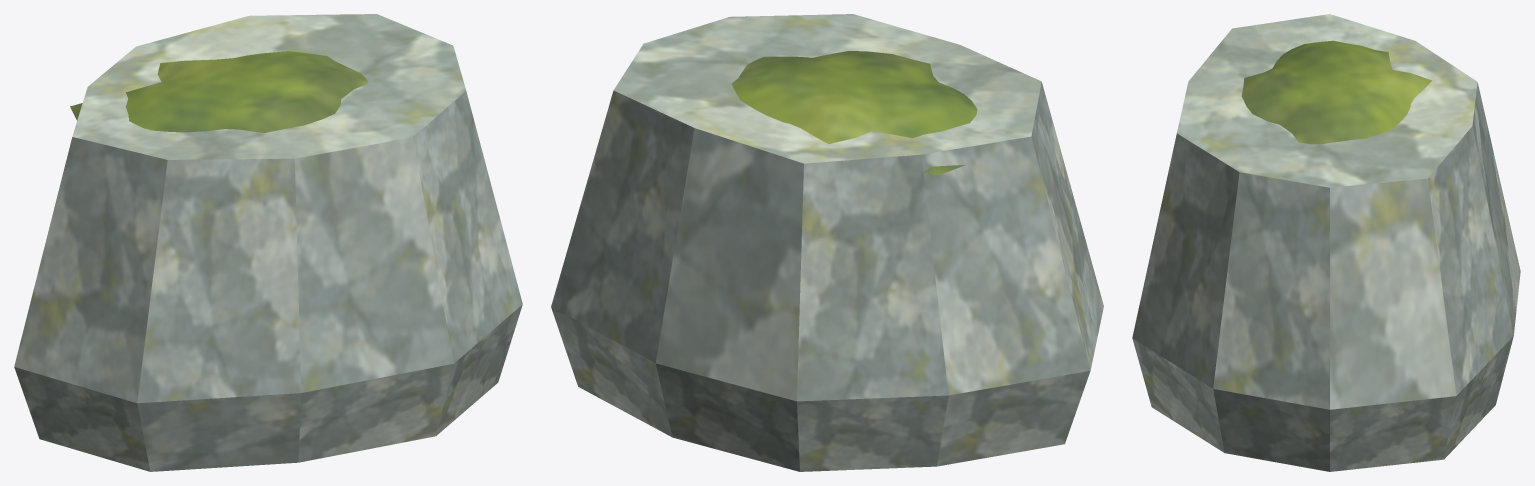
Rendered from Rock_Hero_Island.glb.
The picture shows the model from 3 angles, left to right: view 1: azimuth 30°, elevation 25°; view 2: azimuth 150°, elevation 25°; view 3: azimuth 270°, elevation 25°; orthographic projection. The views are drawn at different scales.
Visible parts, largest first — view 1: Rock_Hero_Island; view 2: Rock_Hero_Island; view 3: Rock_Hero_Island.
Part boxes in pixels (x1,y1,x2,y2): Rock_Hero_Island: [14, 14, 522, 471]; Rock_Hero_Island: [551, 14, 1103, 471]; Rock_Hero_Island: [1132, 14, 1520, 471].
Size of the model in its own units: 3.09 by 1.84 by 2.28.
1 material, 1 textured.
